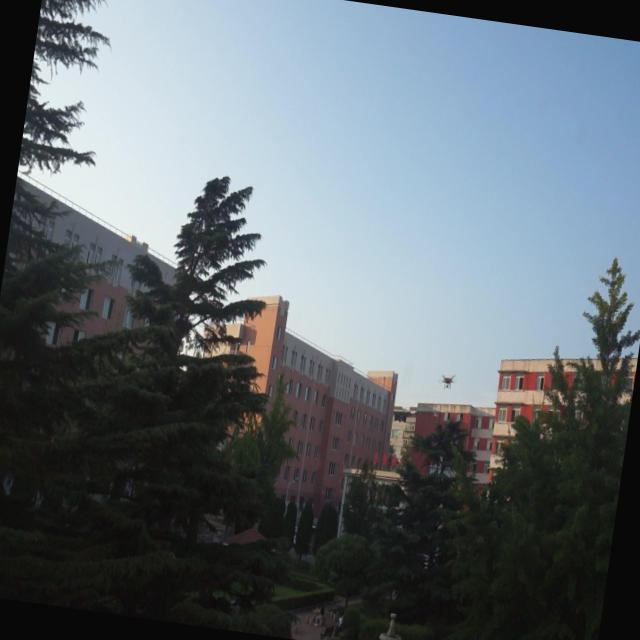drone: (437, 369, 458, 397)
